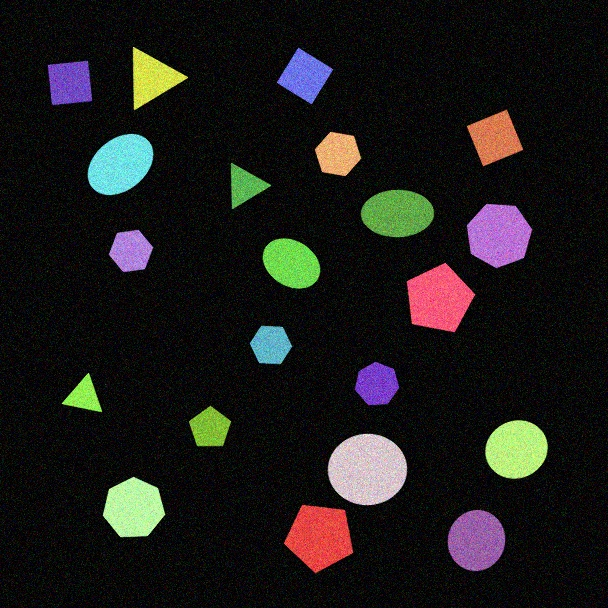Circulo: (327, 433, 408, 506), (484, 419, 549, 480), (447, 509, 506, 572)
Elipse: (87, 133, 154, 196), (360, 189, 435, 238), (262, 238, 321, 289)
Heptagono: (466, 203, 533, 269), (102, 476, 166, 538), (354, 361, 400, 406)
Hexagono: (314, 131, 362, 177), (108, 229, 154, 273), (249, 325, 293, 365)
Pentagono: (406, 262, 476, 333), (283, 504, 354, 574), (188, 405, 232, 447)
Quadrado: (466, 109, 524, 167), (276, 47, 334, 105), (47, 60, 93, 106)
Triangulo: (132, 46, 189, 111), (230, 162, 272, 210), (61, 373, 103, 413)
